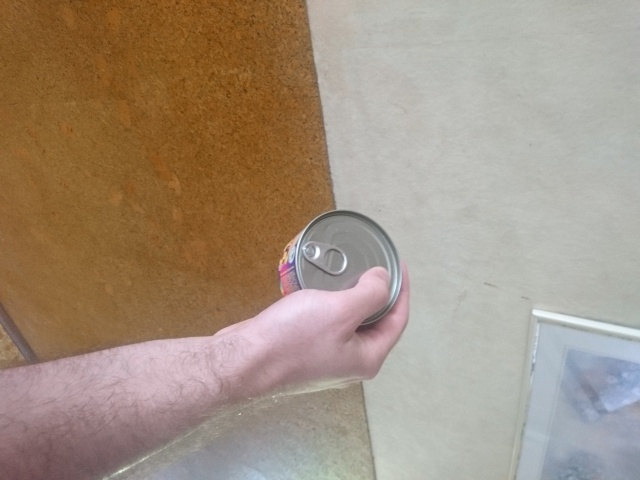Giana Tuna Salad Mexico 185g: (274, 206, 405, 333)
